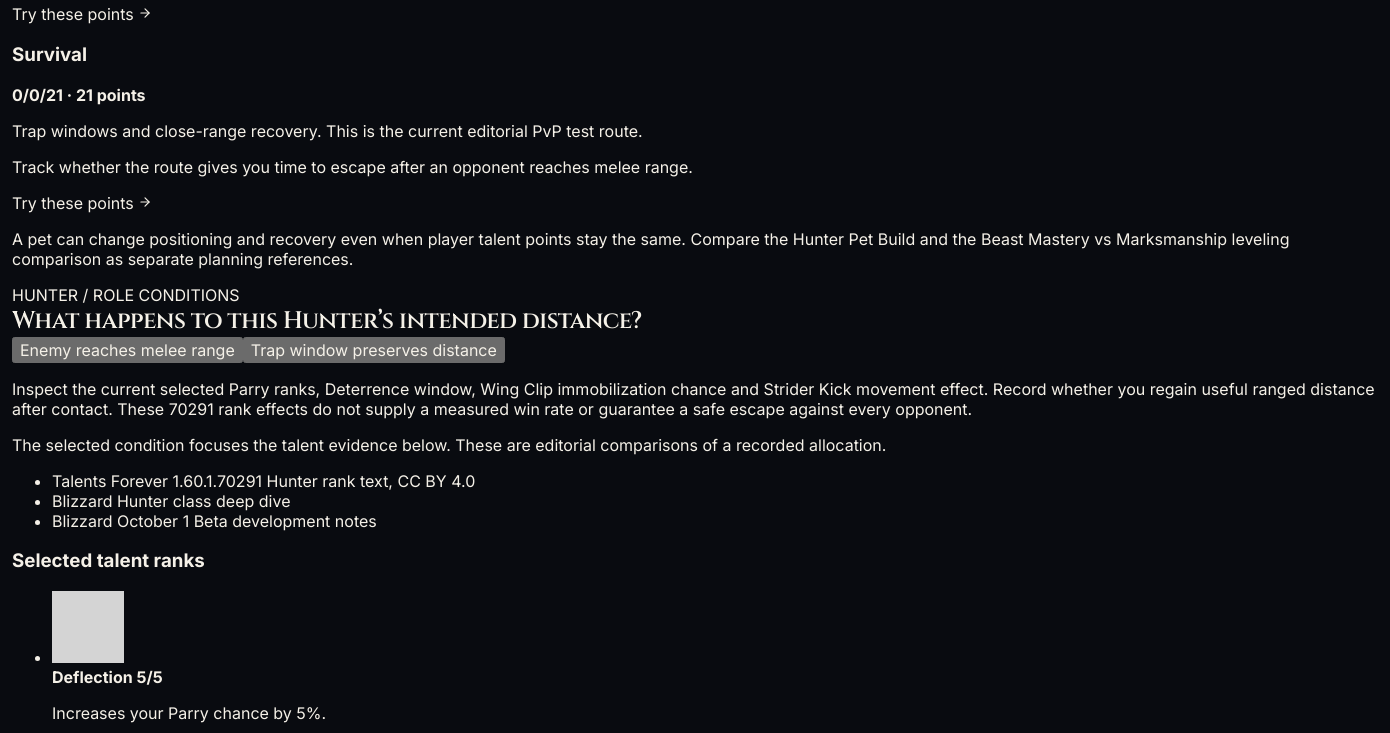
it: shows the Hunter PvP build and calculator link before optional encounter prompts
(page scrolled)
Check: the element with class "rs-first" is shown, box [12,285,1378,531]
Click the button "Trap window preserves distance".
click(374, 350)  # box [243,337,505,363]
(page scrolled)
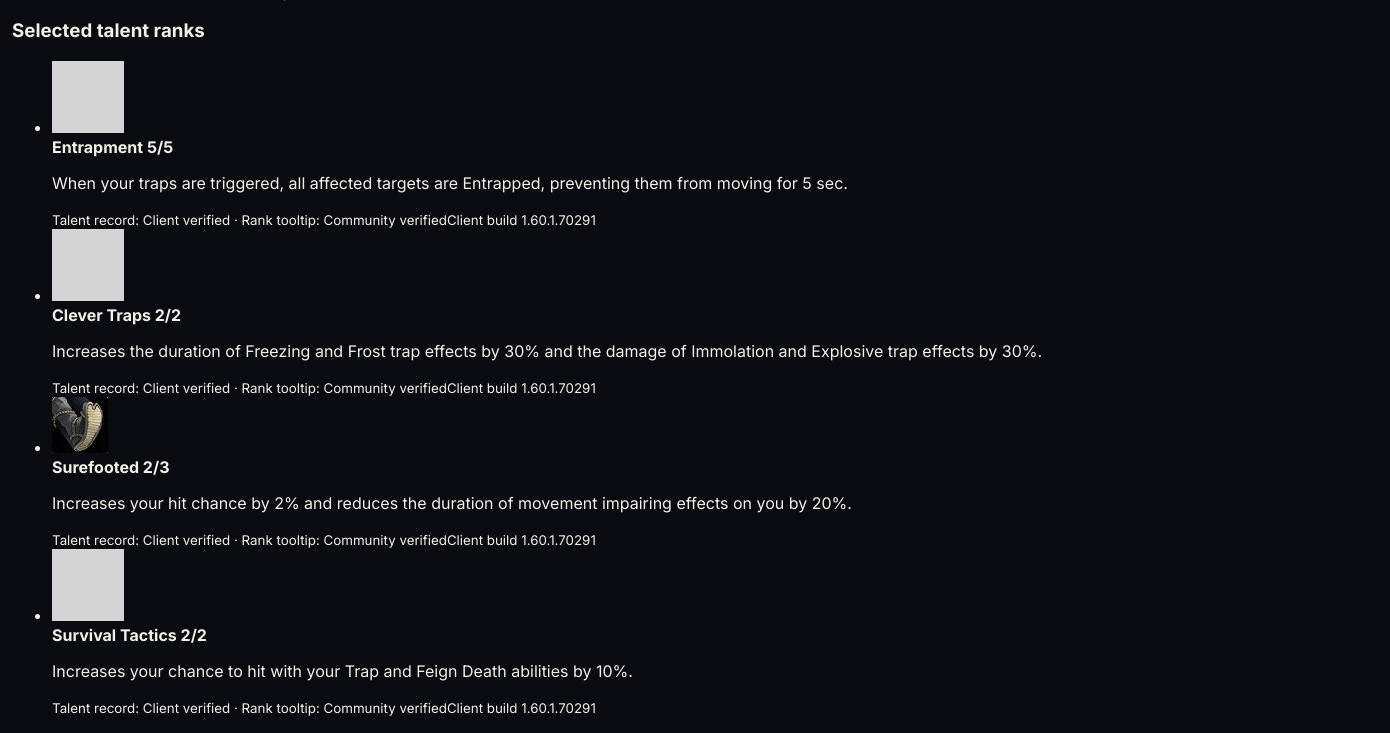
Check: the element with class "rs-evidence" shows "Entrapment", box [52,137,143,157]
Check: the element with class "rs-evidence" no longer shows "Deterrence"
